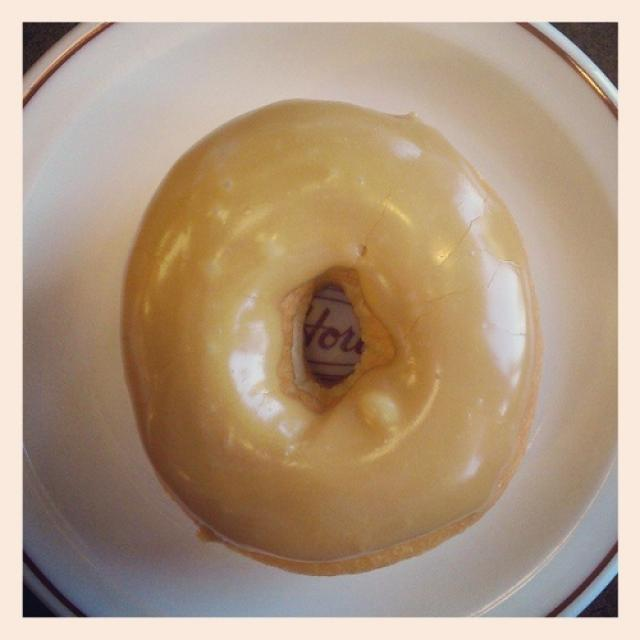炸货点心: (54, 44, 598, 602)
